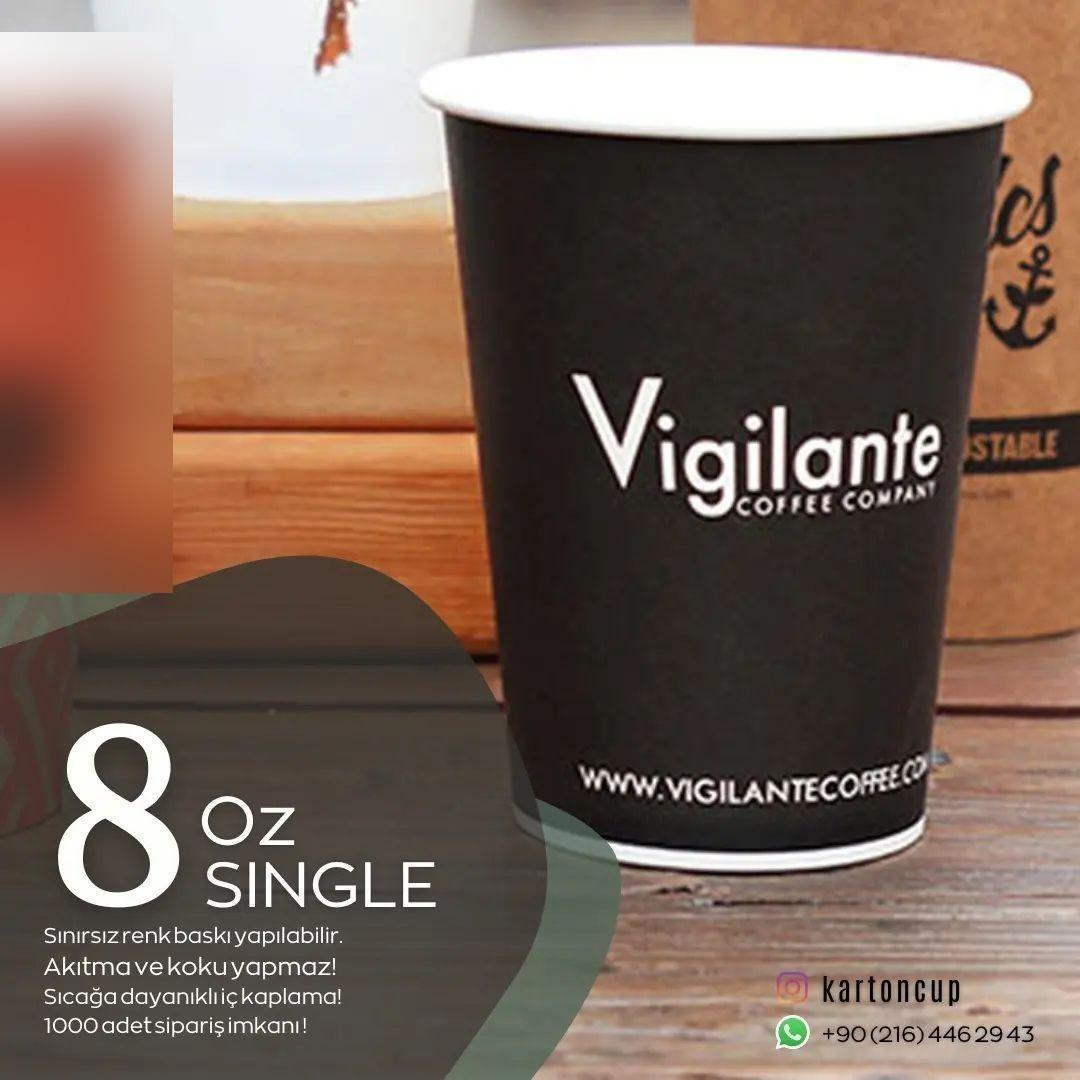cup-disposable: (405, 27, 1057, 879)
